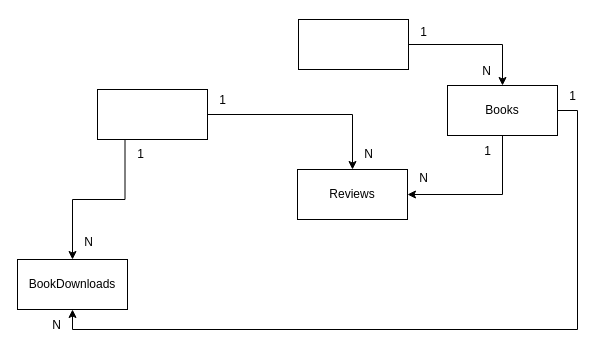
The diagram is 605 pixels wide and 357 high, and some of its shapes have lost their labels. Here are the shapes that lost their labels. From the top down, the centre of each, then its label:
At point (353, 44): "Genres".
At point (152, 114): "Users".
